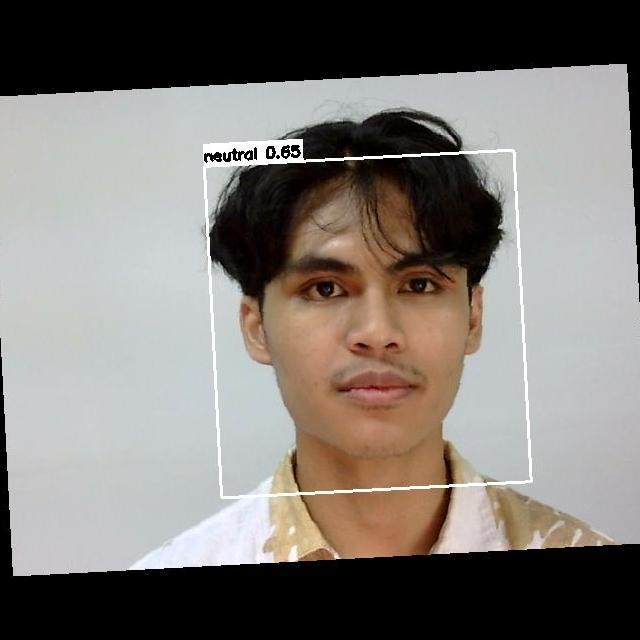Natural: (265, 235, 465, 431)
